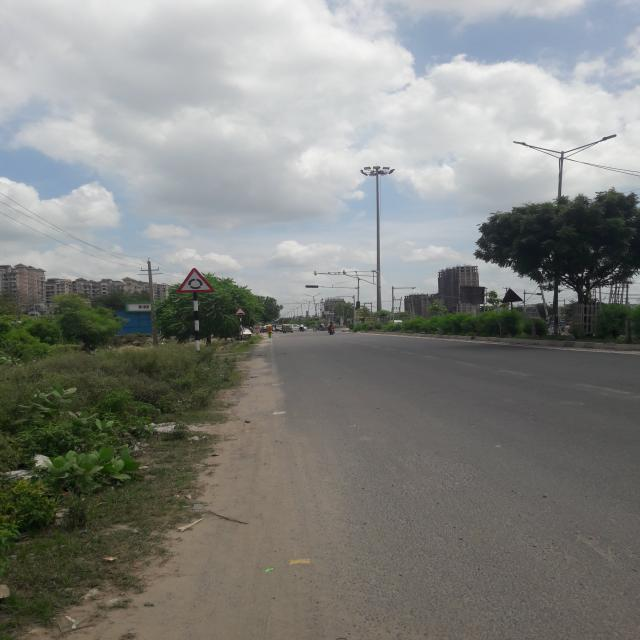HUMP_OR_ROUGH_ROAD: (234, 307, 247, 316)
ROUNDABOUT: (176, 268, 214, 293)
